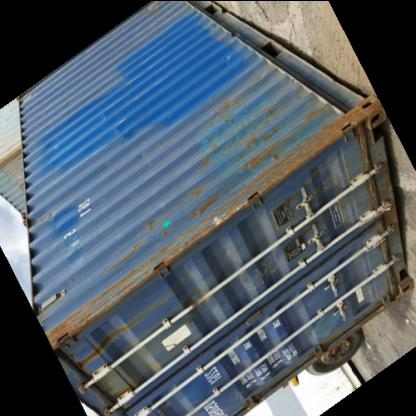Damage: (47, 252, 161, 343), (148, 175, 272, 257), (247, 118, 355, 168), (211, 87, 266, 153), (167, 150, 229, 181)
